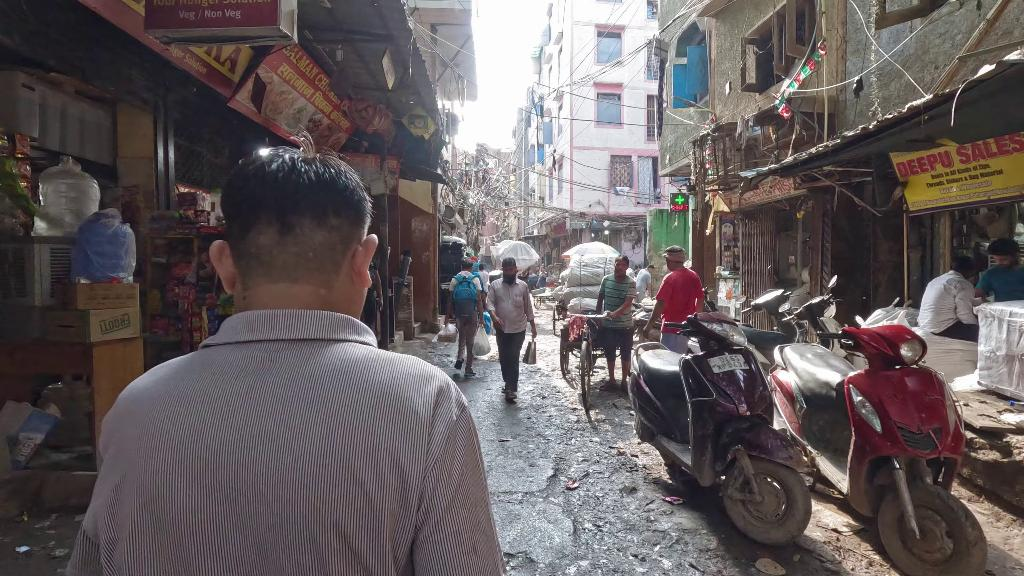garbage: (470, 325, 491, 358), (434, 323, 459, 345)
